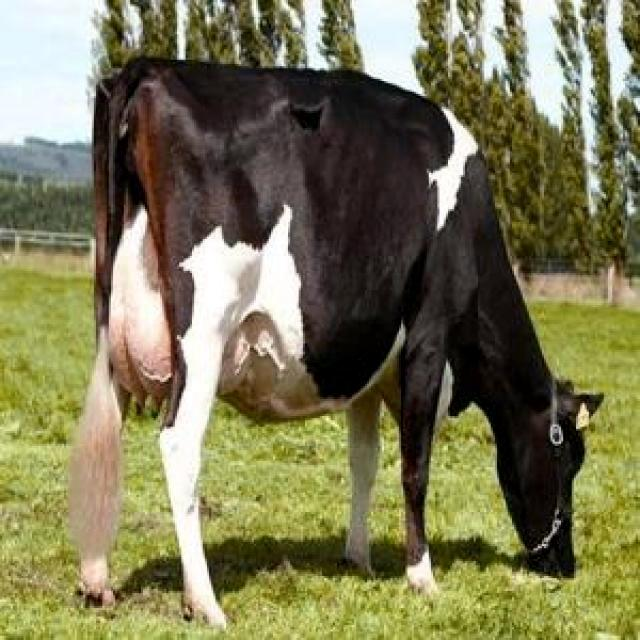COW: (70, 59, 601, 627)
